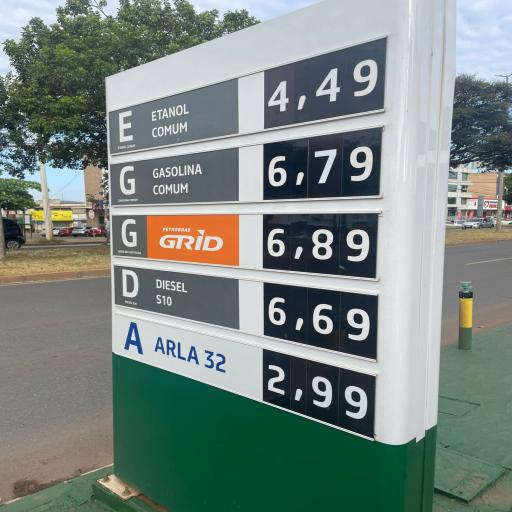ETANOL: (112, 80, 239, 154)
GASOLINA AD: (115, 215, 236, 269)
GASOLINA C: (112, 150, 241, 202)
S10: (115, 265, 239, 330)
placa: (106, 1, 406, 372)
preco: (265, 39, 382, 122), (261, 127, 384, 198), (263, 285, 375, 360), (261, 215, 378, 275)
